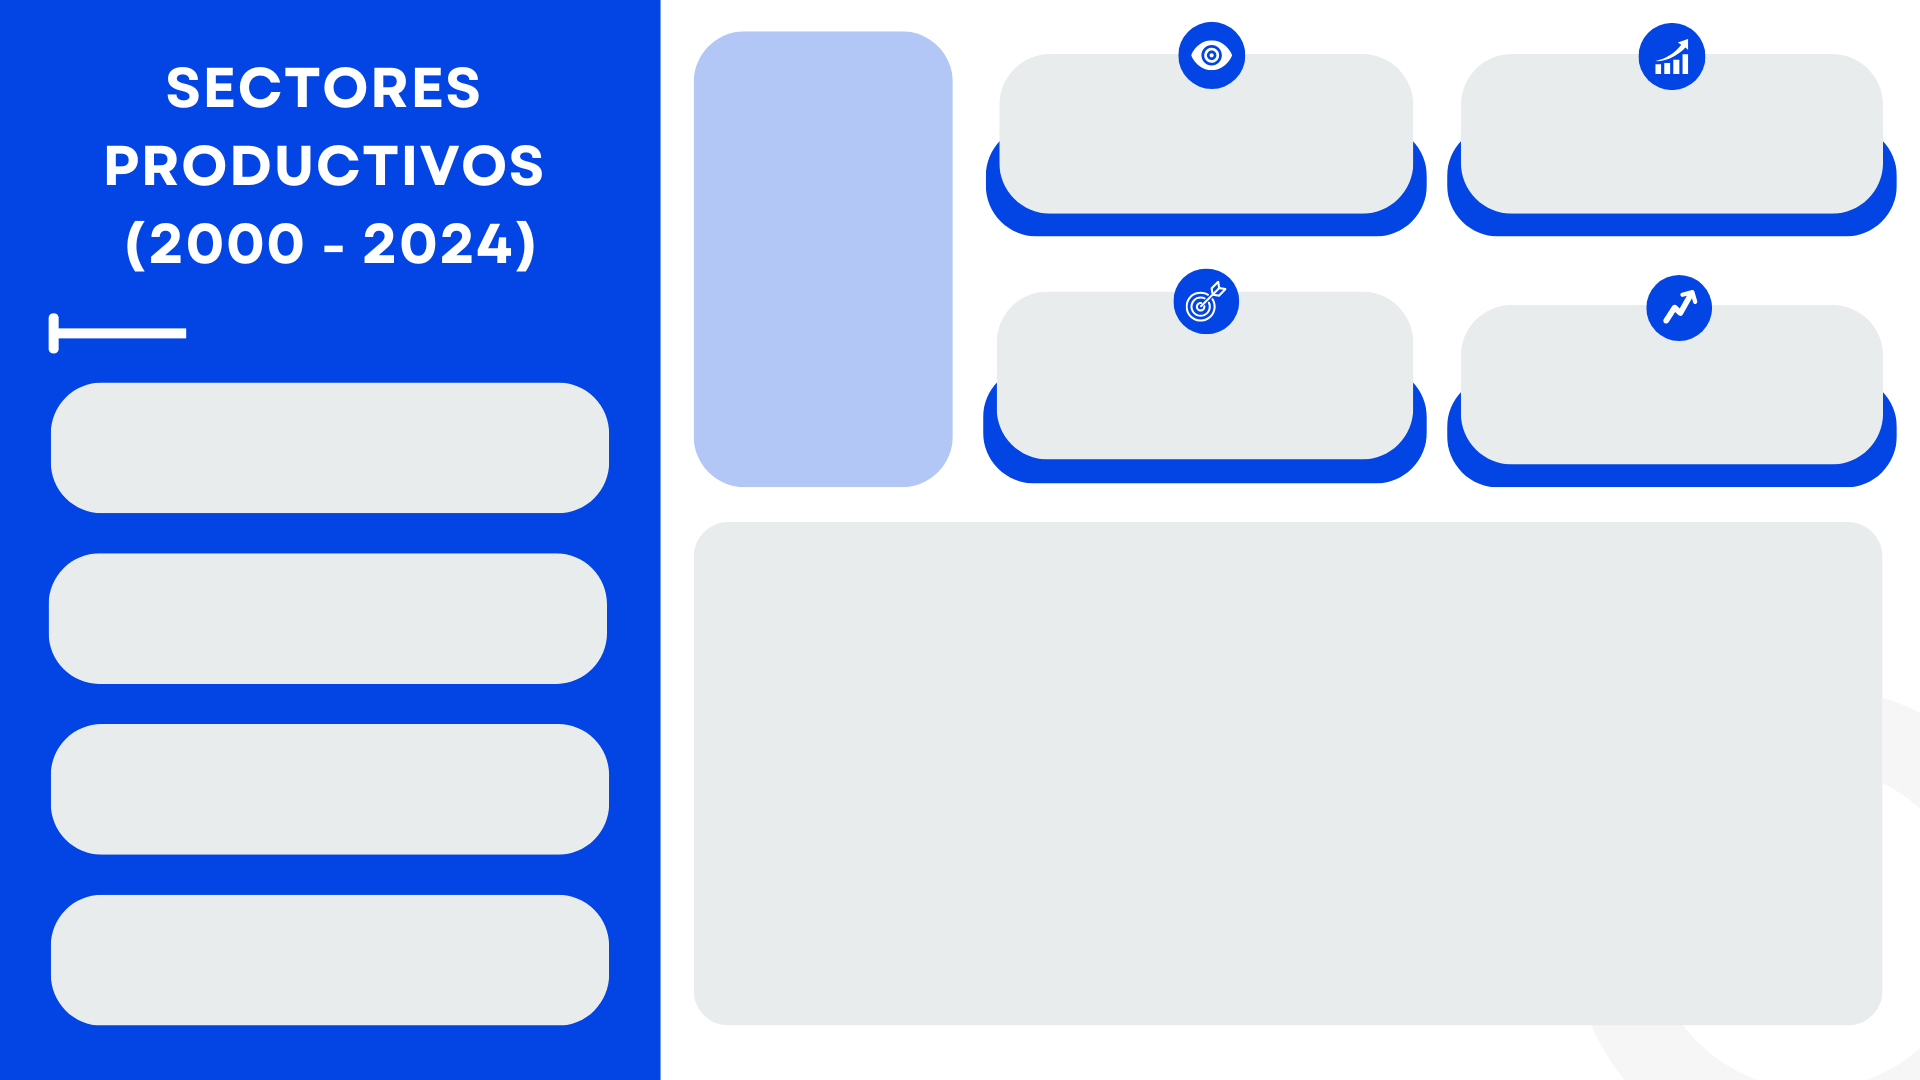

What the dashboard file says about the page in this screenshot:
{"tool":"powerbi","page":{"name":"Página 1","canvas":[1280,720],"ordinal":2},"visuals":[{"type":"slicer","title":"Lista de Años:","fields":{"Values":["Tabla General.Años"]},"box":[476.5,39.8,153.2,273.9],"z":0},{"type":"donutChart","fields":{"Category":["PBI_SectoresUnpivot.Sectores"],"Y":["Sum(PBI_SectoresUnpivot.Aporte al PBI)"]},"box":[495,366.2,748.8,317.5],"z":1000},{"type":"card","title":"Sector con Mayor Crecimiento Absoluto","fields":{"Values":["Tabla General.Sector con Mayor Crecimiento Absoluto"]},"box":[41,273.9,365.6,57.9],"z":2000},{"type":"card","title":"Sector con Menor Crecimiento Absoluto","fields":{"Values":["Tabla General.Sector con Menor Crecimiento Absoluto"]},"box":[41,386.1,365.6,53.1],"z":3000},{"type":"card","title":"Mayor Crecimiento Acumulado","fields":{"Values":["Tabla General.Sector con Mayor Crecimiento Acumulado"]},"box":[84.5,497.1,278.7,56.7],"z":4000},{"type":"card","title":"Año con mayor peso de un sector","fields":{"Values":["Tabla General.MayorPesoSector"]},"box":[54.3,611.7,341.4,63.9],"z":5000},{"type":"card","title":"Sector con Mayor Aporte al PBI","fields":{"Values":["Tabla General.Sector que más aporto al PBI en tal año"]},"box":[678.1,69.4,247.5,63.8],"z":6000},{"type":"card","title":"Sector con Mayor Crecimiento (%)","fields":{"Values":["Tabla General.Sector que más creció en tal año"]},"box":[668.1,233.1,267.5,70],"z":7000},{"type":"card","title":"Sector con Mayor Caída (%)","fields":{"Values":["Tabla General.Sector que menos creció en tal año"]},"box":[990.6,233.1,253.1,70],"z":8000},{"type":"card","title":"Sector con Mayor Crecimiento Absoluto","fields":{"Values":["Tabla General.Sector con Mayor Crecimiento Absoluto (S/ millones)"]},"box":[980.8,68.8,281.1,72.4],"z":9000}]}

Visuals, with their boxes in screenshot pixels (x1, y1, x2, y2), scaled from the page's 1280x720 canvas onto the 1920x1080 screenshot:
"Lista de Años:" slicer: (x1=715, y1=60, x2=945, y2=471)
donutChart - PBI_SectoresUnpivot.Sectores x Sum(PBI_SectoresUnpivot.Aporte al PBI): (x1=742, y1=549, x2=1866, y2=1026)
"Sector con Mayor Crecimiento Absoluto" card: (x1=62, y1=411, x2=610, y2=498)
"Sector con Menor Crecimiento Absoluto" card: (x1=62, y1=579, x2=610, y2=659)
"Mayor Crecimiento Acumulado" card: (x1=127, y1=746, x2=545, y2=831)
"Año con mayor peso de un sector" card: (x1=81, y1=918, x2=594, y2=1013)
"Sector con Mayor Aporte al PBI" card: (x1=1017, y1=104, x2=1388, y2=200)
"Sector con Mayor Crecimiento (%)" card: (x1=1002, y1=350, x2=1403, y2=455)
"Sector con Mayor Caída (%)" card: (x1=1486, y1=350, x2=1866, y2=455)
"Sector con Mayor Crecimiento Absoluto" card: (x1=1471, y1=103, x2=1893, y2=212)
